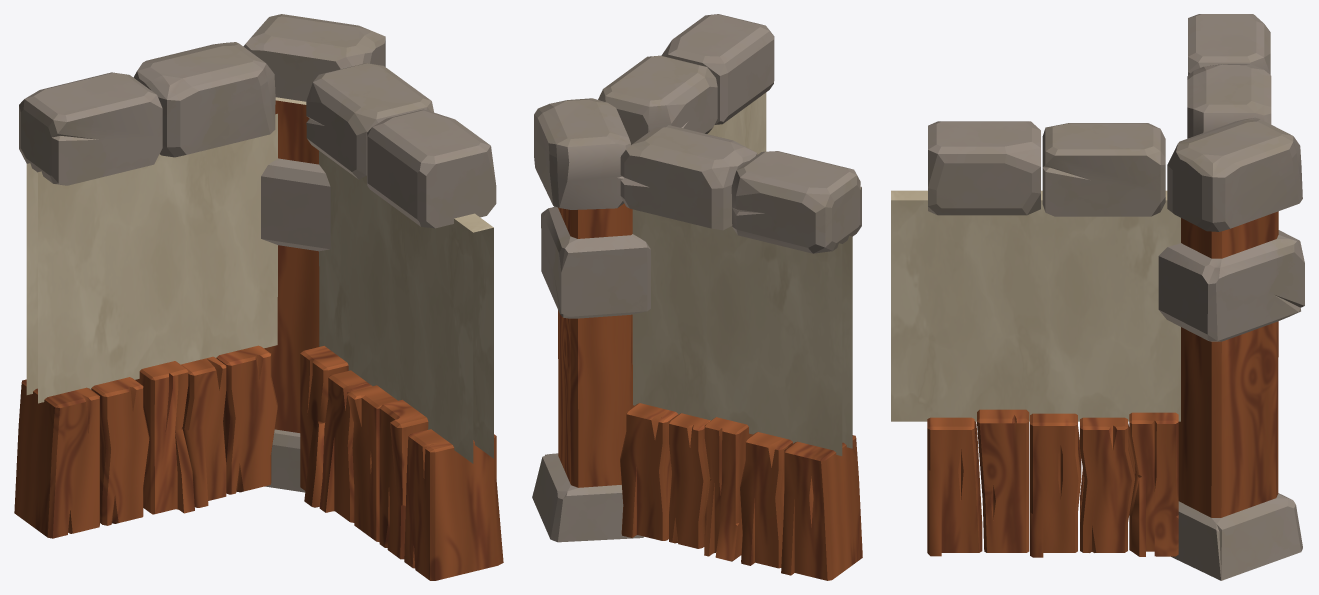
Rendered from SM_WallAngle_02.fbx.
3 renders of one model, left to right at view 1: azimuth 30°, elevation 25°; view 2: azimuth 150°, elevation 25°; view 3: azimuth 270°, elevation 25°, orthographic. The views are drawn at different scales.
Visible parts, largest first — view 1: SM_WallAngle_02; view 2: SM_WallAngle_02; view 3: SM_WallAngle_02.
Part boxes in pixels (x1,y1,x2,y2): SM_WallAngle_02: [14, 14, 503, 580]; SM_WallAngle_02: [532, 14, 862, 580]; SM_WallAngle_02: [891, 14, 1304, 580].
Size of the model in its own units: 318 by 380 by 343.
